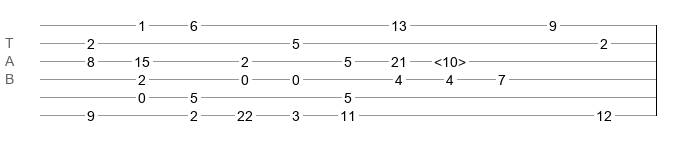0: (138, 90, 146, 100), (241, 72, 249, 82), (292, 72, 300, 82)
1: (138, 18, 146, 28)
11: (340, 108, 356, 118)
12: (596, 108, 612, 118)
13: (391, 18, 407, 28)
15: (134, 54, 150, 64)
2: (87, 36, 95, 46), (138, 72, 146, 82), (190, 108, 198, 118), (241, 54, 249, 64), (600, 36, 608, 46)
21: (391, 54, 407, 64)
22: (237, 108, 253, 118)
3: (292, 108, 300, 118)
4: (395, 72, 403, 82), (446, 72, 454, 82)
5: (190, 90, 198, 100), (292, 36, 300, 46), (344, 90, 352, 100), (344, 54, 352, 64)
6: (190, 18, 198, 28)
7: (498, 72, 506, 82)
8: (87, 54, 95, 64)
9: (87, 108, 95, 118), (549, 18, 557, 28)
harmonic: (434, 54, 466, 64)
